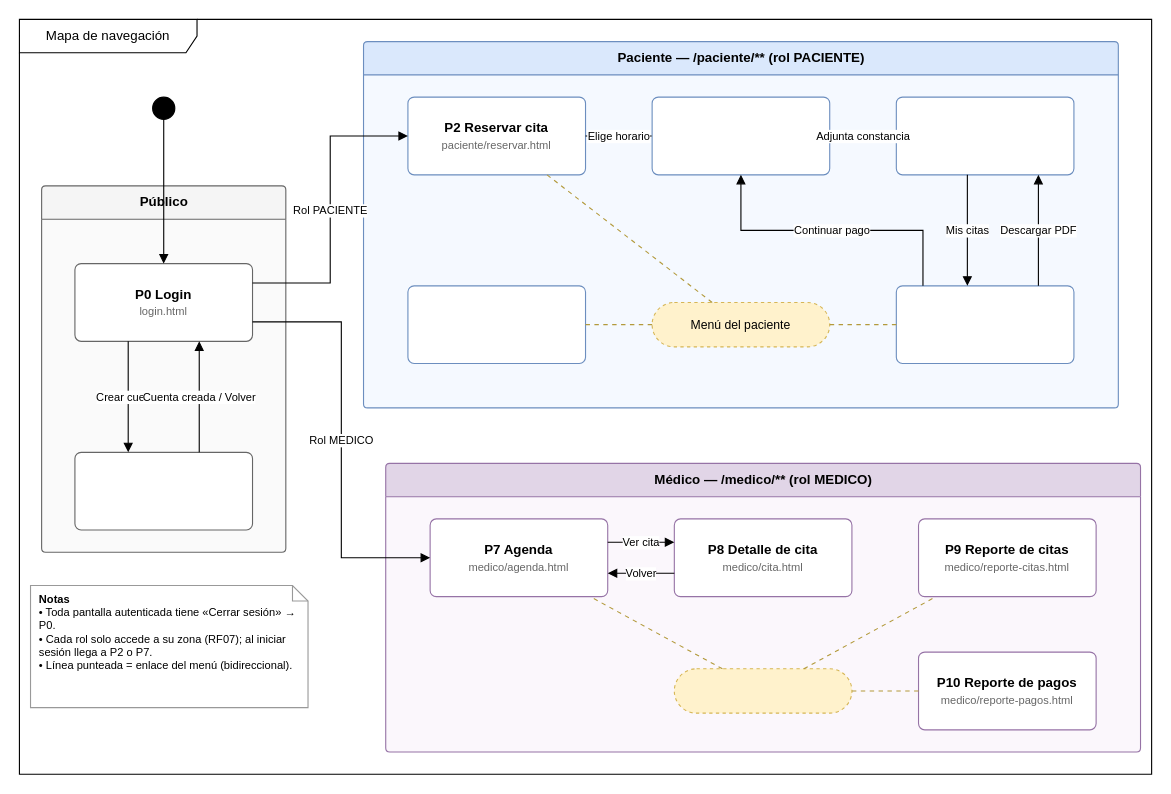
The diagram is 1171 pixels wide and 794 high, and some of its shapes have lost their labels. The shapes that lost their labels are listed below. From the top down, each one's centre as x and y in pixels, then its label:
At (x=740, y=135): "P3 Pago Yape (15 min) paciente/pago.html".
At (x=984, y=135): "P4 Confirmación + PDF paciente/confirmacion.html".
At (x=496, y=324): "P6 Mi perfil paciente/perfil.html".
At (x=984, y=324): "P5 Mis citas paciente/citas.html".
At (x=163, y=490): "P1 Registro registro.html".
At (x=762, y=690): "Menú del médico".
